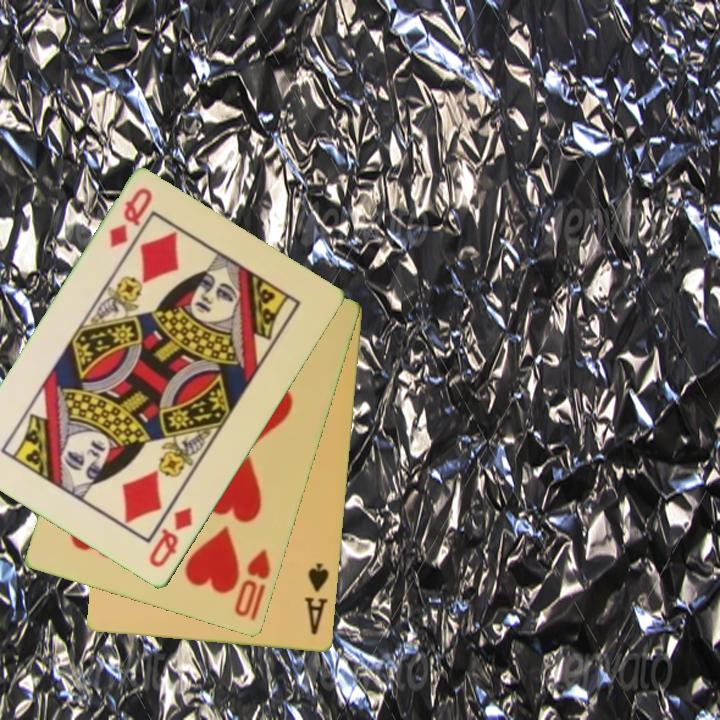10h: (231, 546, 274, 624)
As: (301, 559, 333, 639)
Qd: (145, 504, 196, 572), (105, 184, 156, 251)
